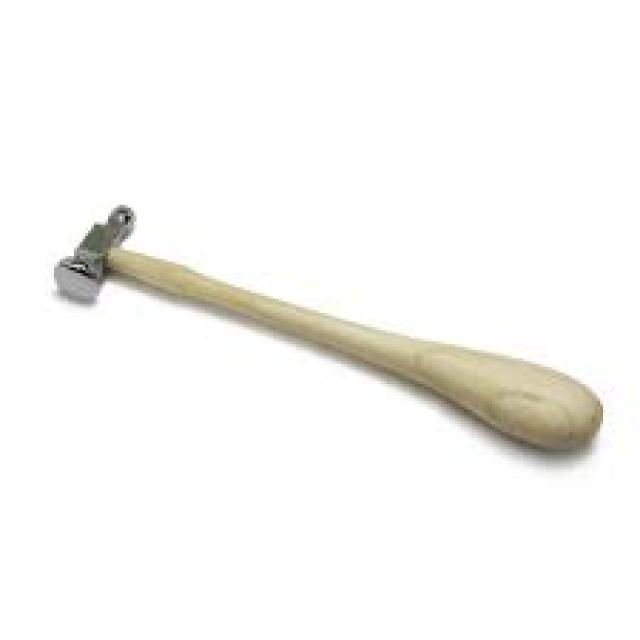Palu: (42, 178, 600, 470)
